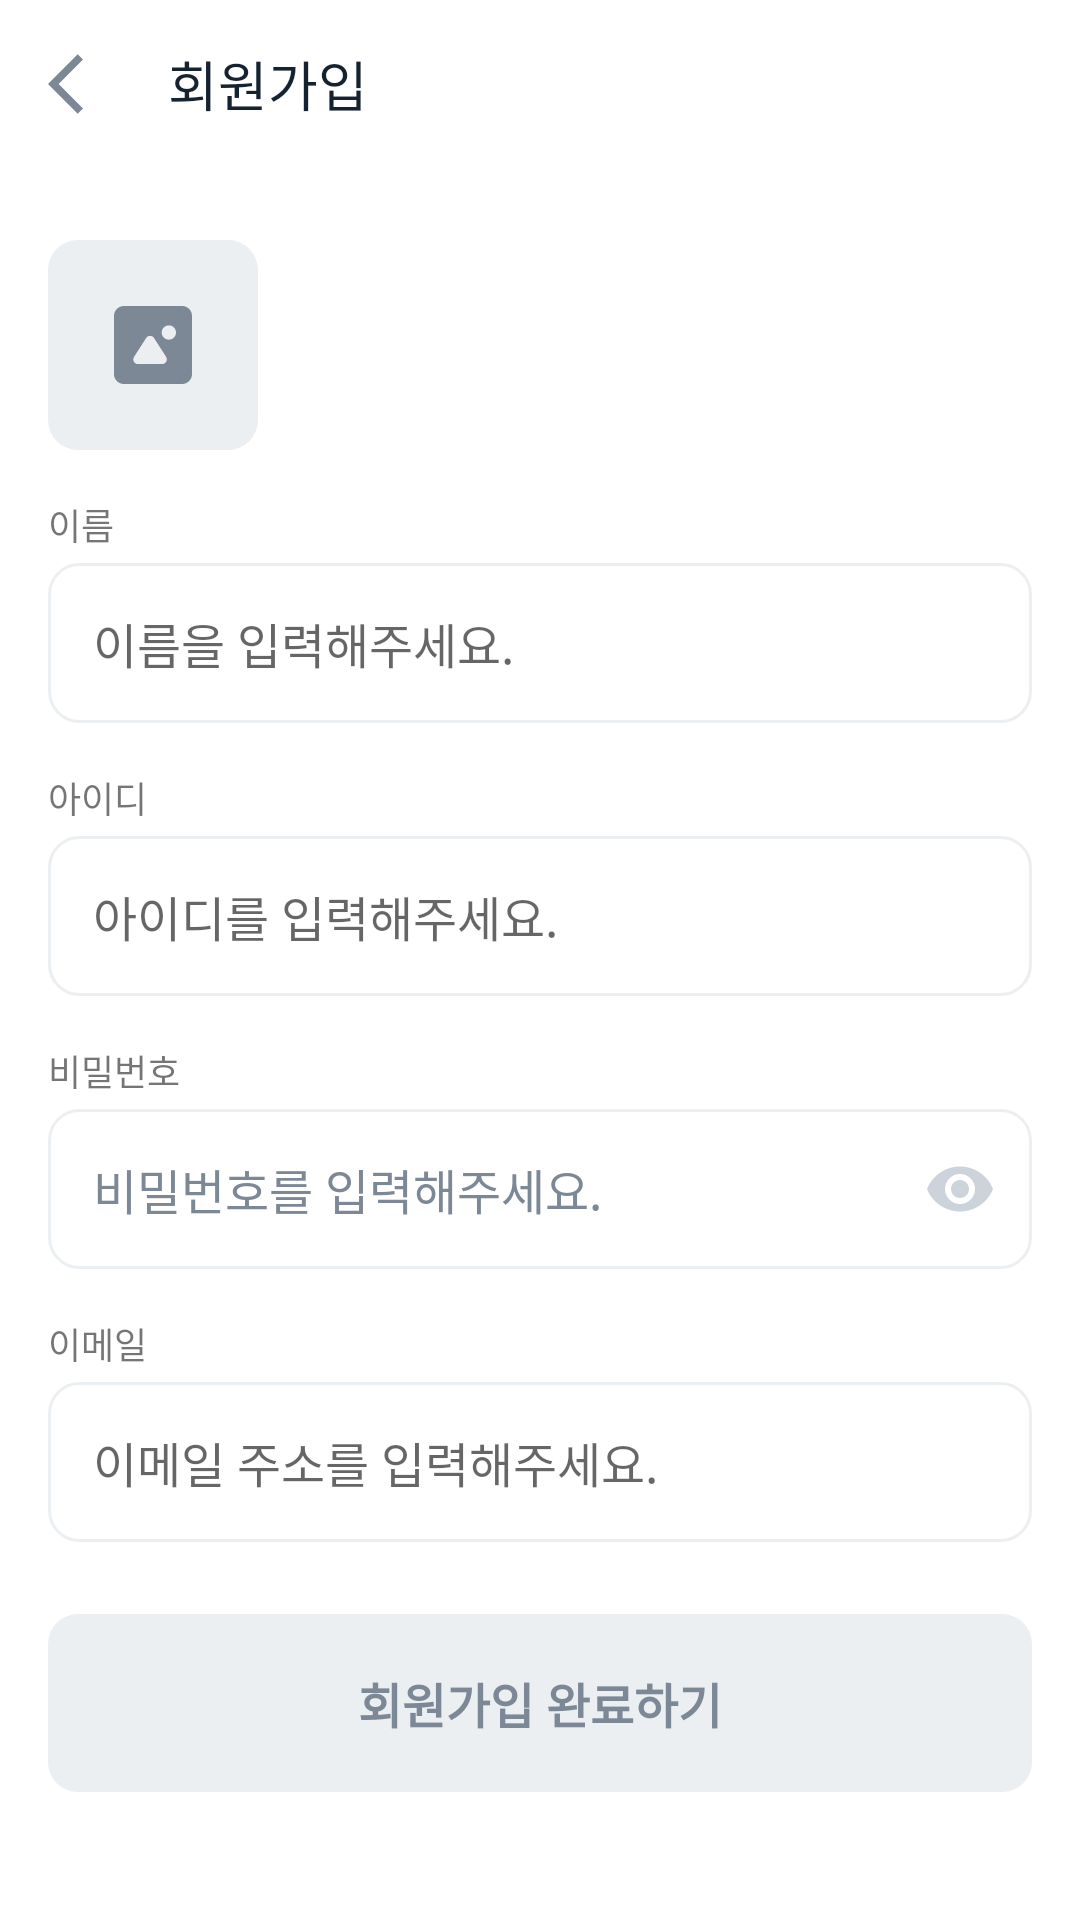

Where icons sit on this 1080*1920 app screen, as (x1, y1, x2, y2):
arrow back mono: (48, 54, 83, 114)
